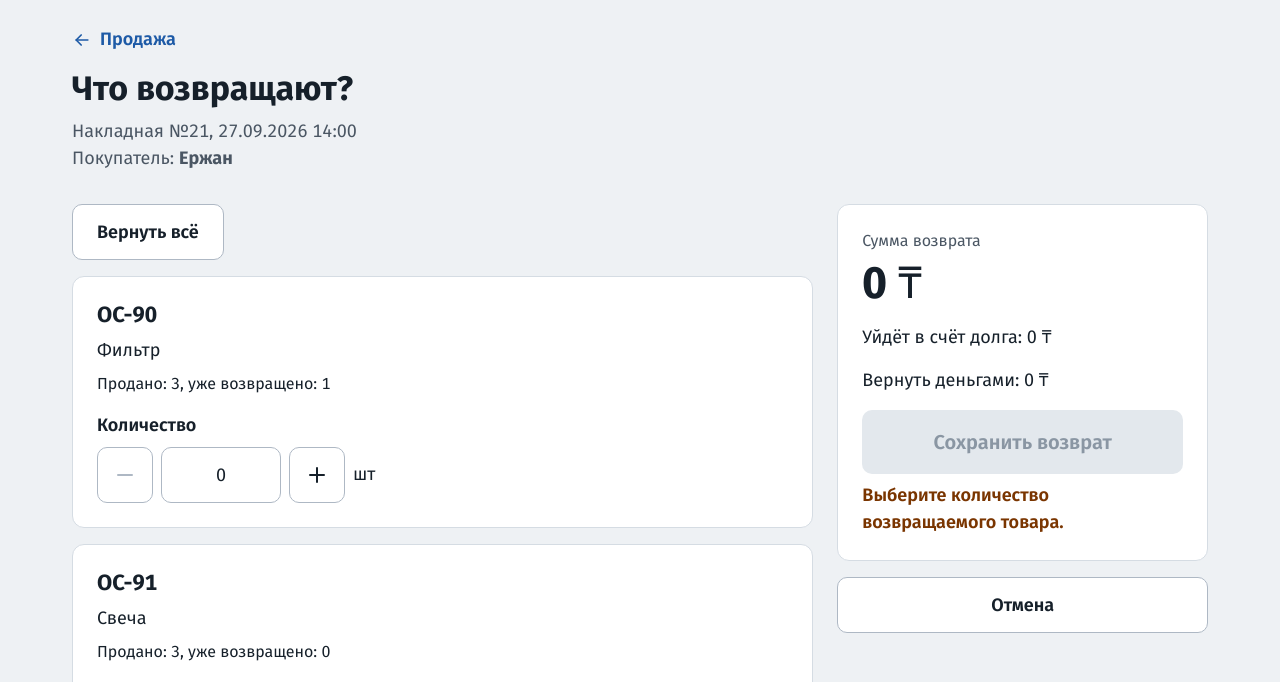
ReturnCreatePage › starts at zero, bounds the stepper and shows fully returned lines without a field
Check: the field named "Количество OC-90" holds "0", box [161,447,281,503]
Check: the button named "Уменьшить" is disabled, box [97,447,153,503]
Click the button named "Увеличить": (317, 475) [289,447,345,503]
(page scrolled)
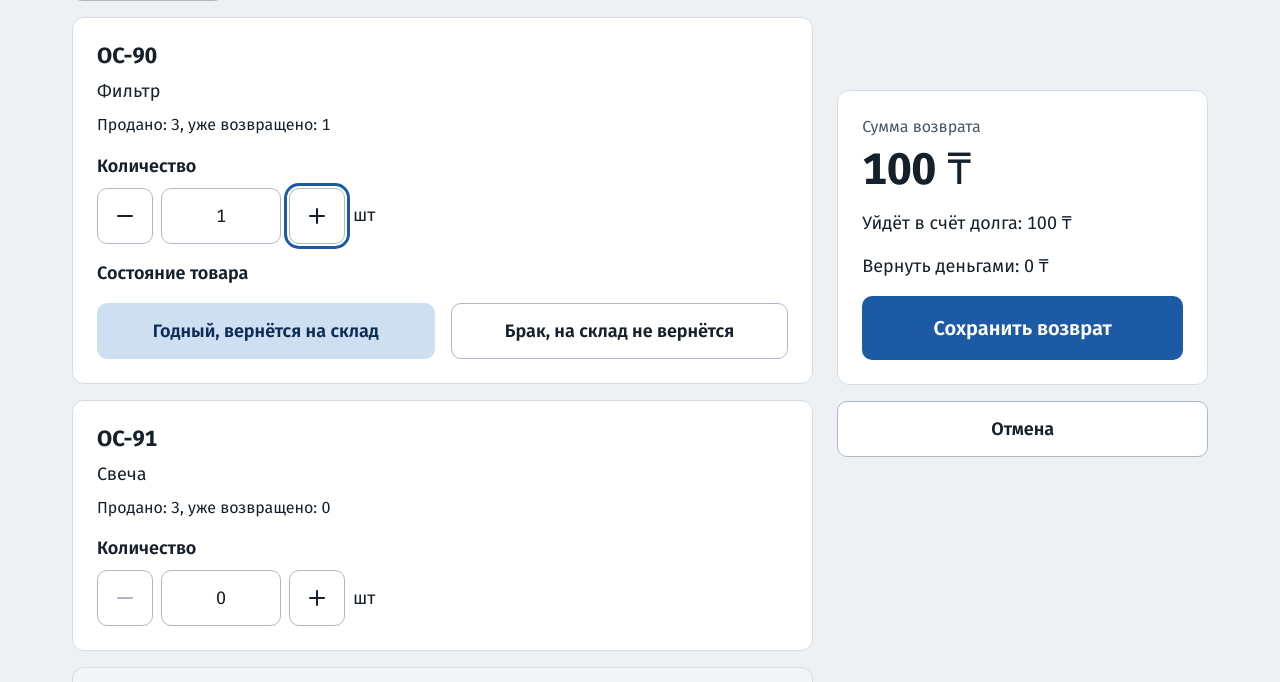
Check: the button "Годный, вернётся на склад" is shown, box [153,322,379,340]
Click the button named "Увеличить": (317, 216) [289,188,345,244]
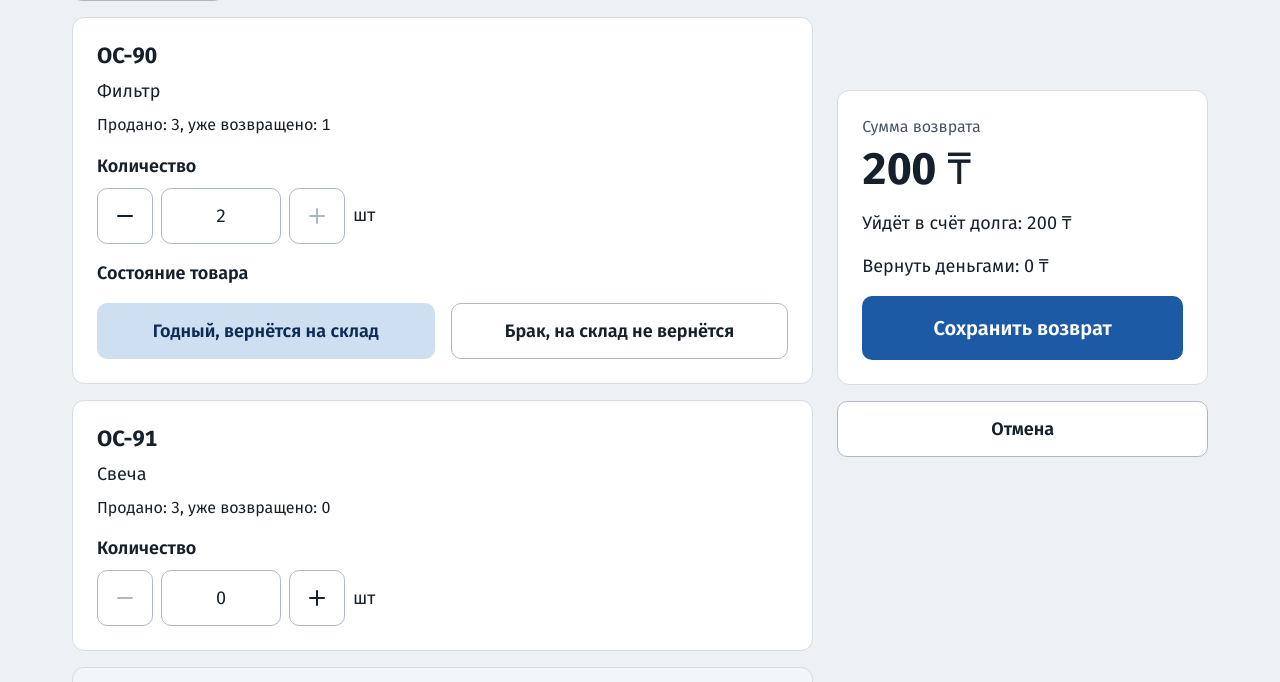
Check: the button named "Увеличить" is disabled, box [289,188,345,244]
Click the button named "Уменьшить": (125, 216) [97,188,153,244]
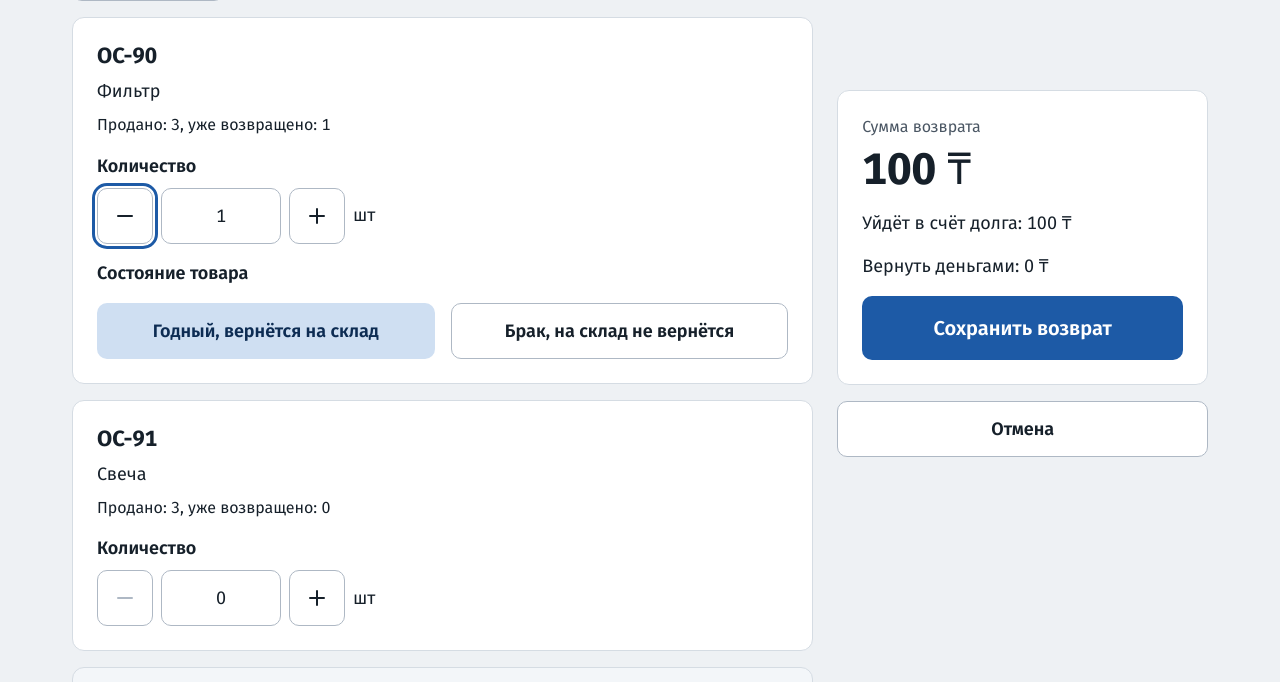
Click the button named "Уменьшить": (125, 216) [97,188,153,244]
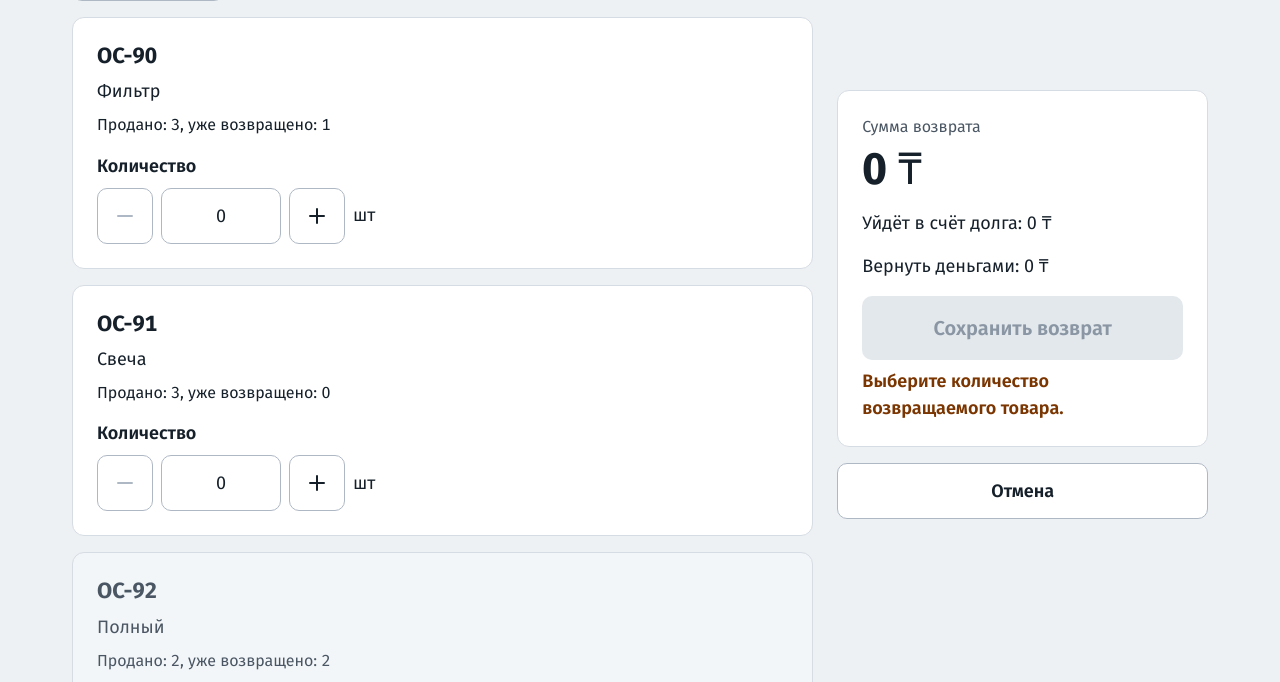
Check: the button "Годный, вернётся на склад" is gone
Check: the button "Сохранить возврат" is disabled, box [862,297,1183,361]
